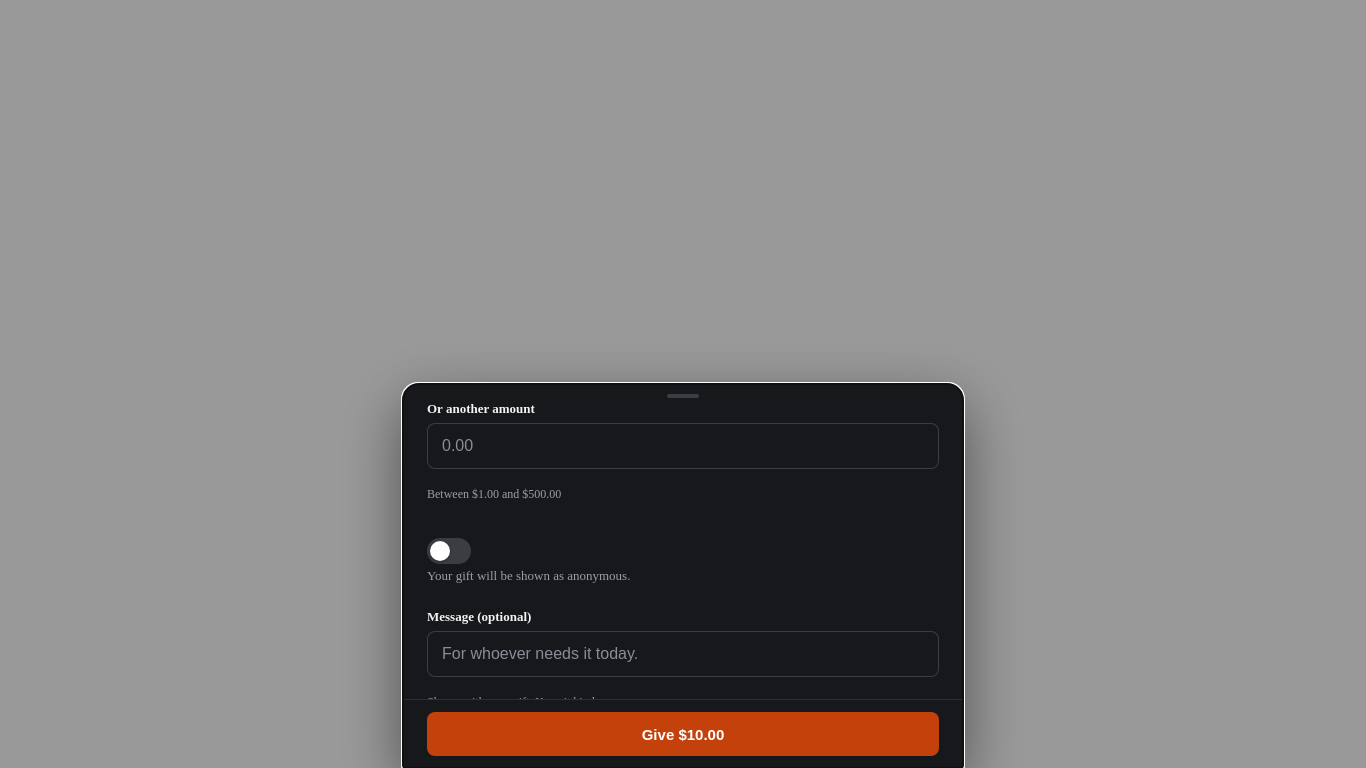
giving to the fund › will not let you be named without giving a name
The image size is (1366, 768).
(page scrolled)
Click the switch named "add my name" at coordinates (449, 551), box [427,538,471,564]
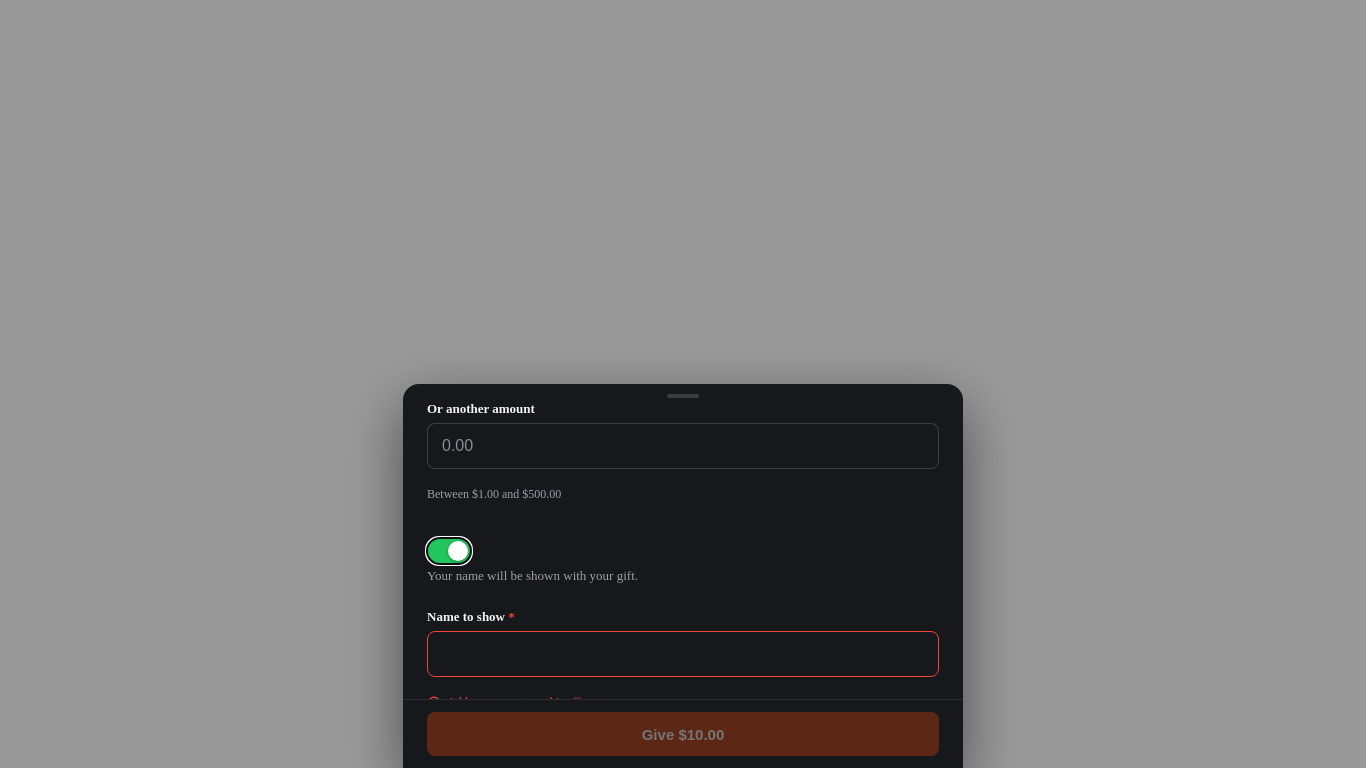
Result: the text "Your name will be shown with your gift." is shown at [427,568,638,583]
Result: the button "Give $10.00" is disabled at [427,712,939,756]
